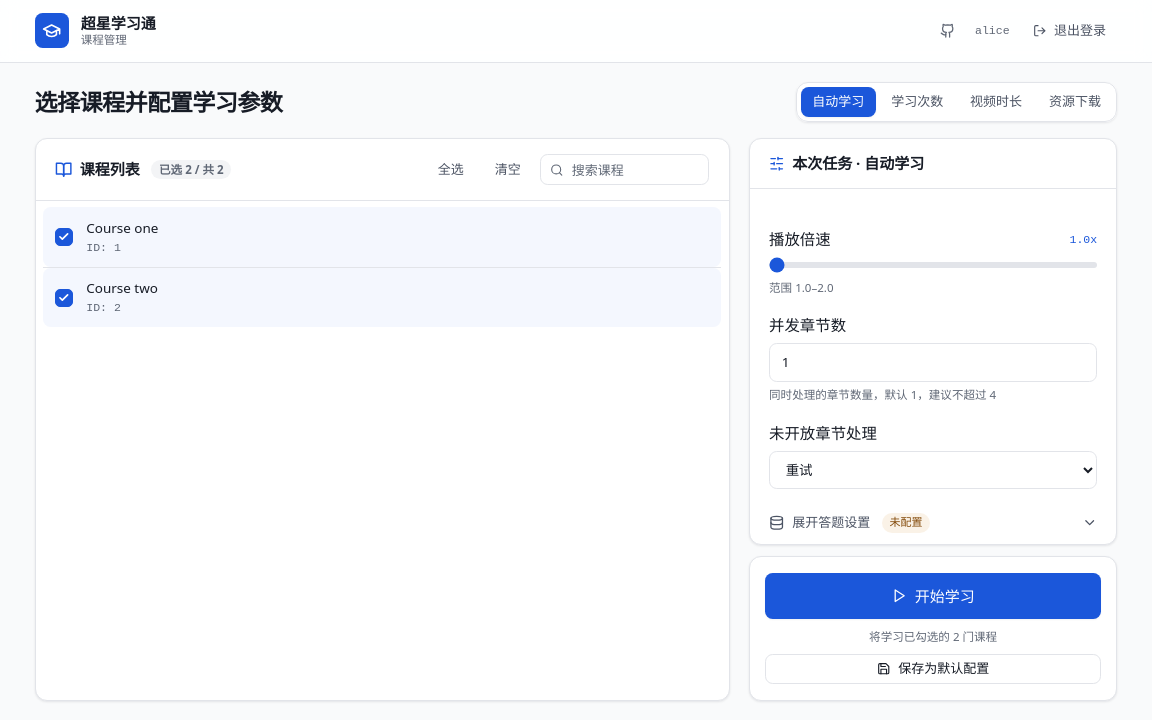
Test: task navigation › ignores a late success stop response after a new task starts for the same account
This screenshot has width=1152, height=720.
What coordinates should you click on to do the following:
click the button "开始学习"
I would click on:
 (933, 596)
Its box is x1=765 y1=573 x2=1101 y2=619.
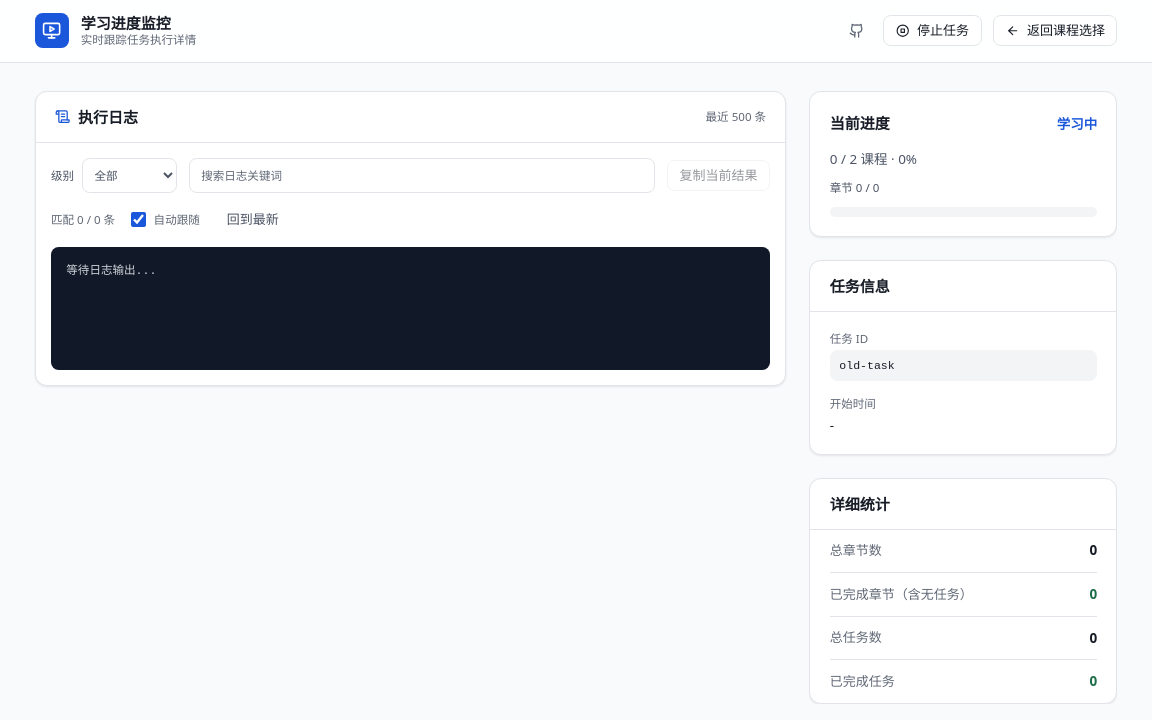
What coordinates should you click on to do the following:
click the button "停止任务"
I would click on:
 (933, 31)
Its box is x1=883 y1=15 x2=982 y2=46.
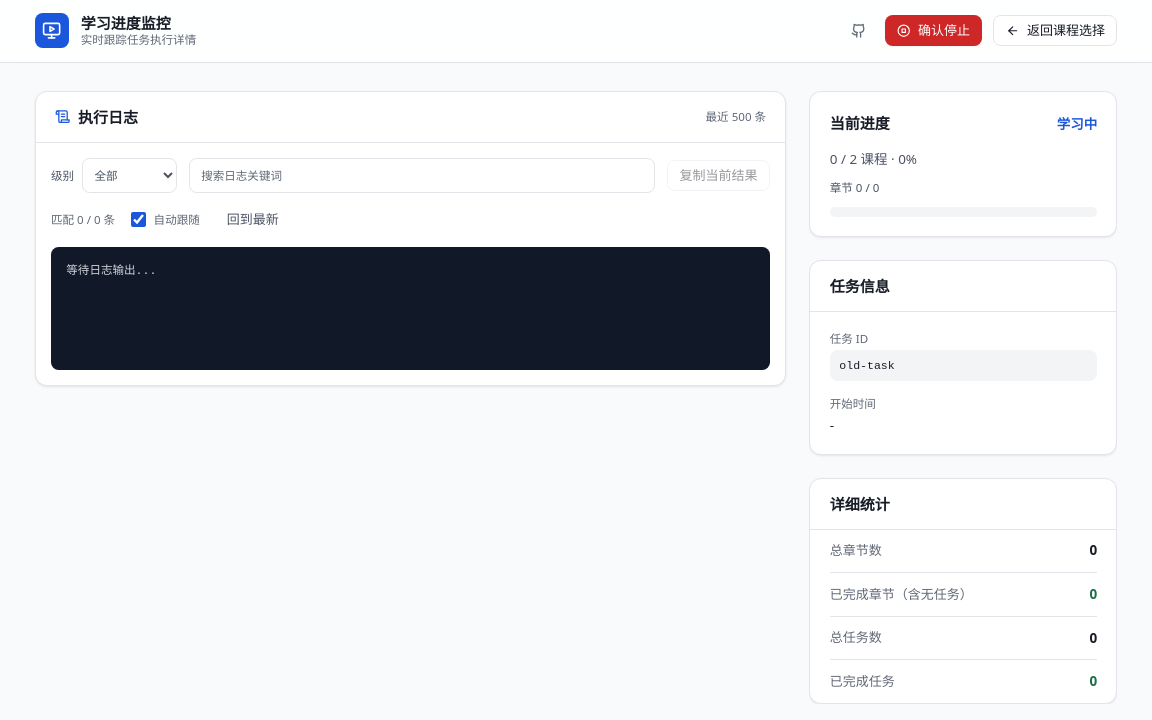
What coordinates should you click on to do the following:
click the button with aria-label "确认停止任务"
I would click on:
 (934, 31)
Its box is x1=885 y1=15 x2=982 y2=46.
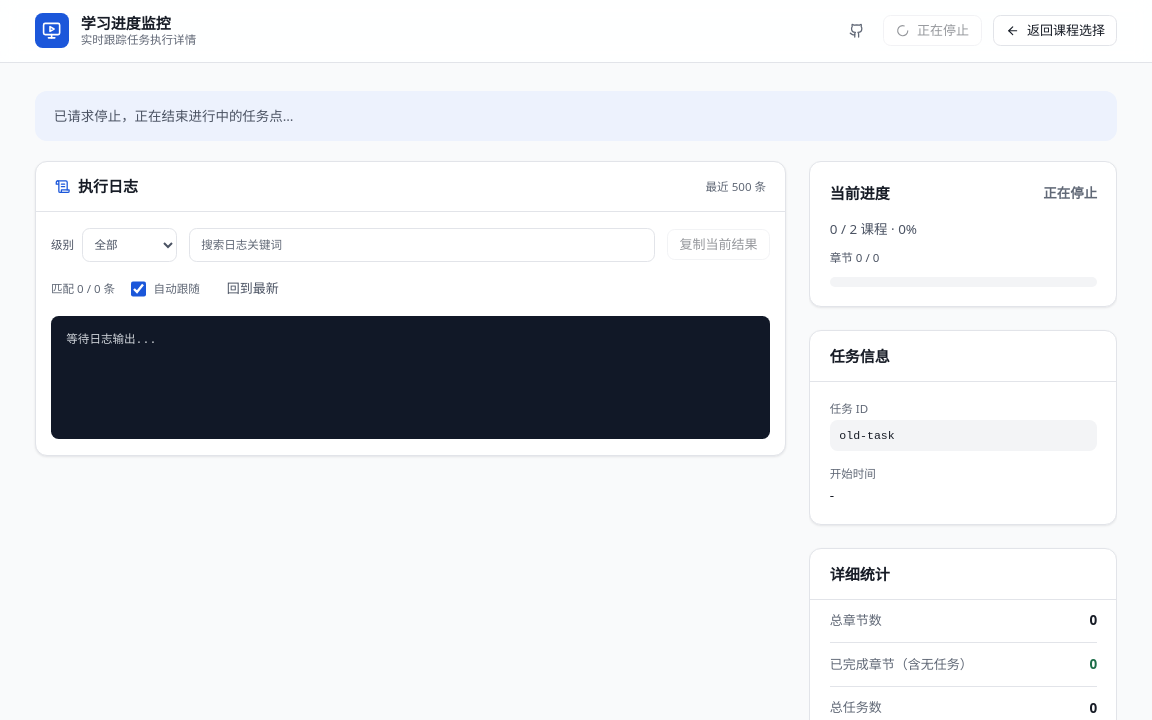
What coordinates should you click on to do the following:
click the button "返回课程选择"
I would click on:
 (1055, 31)
Its box is x1=993 y1=15 x2=1118 y2=46.
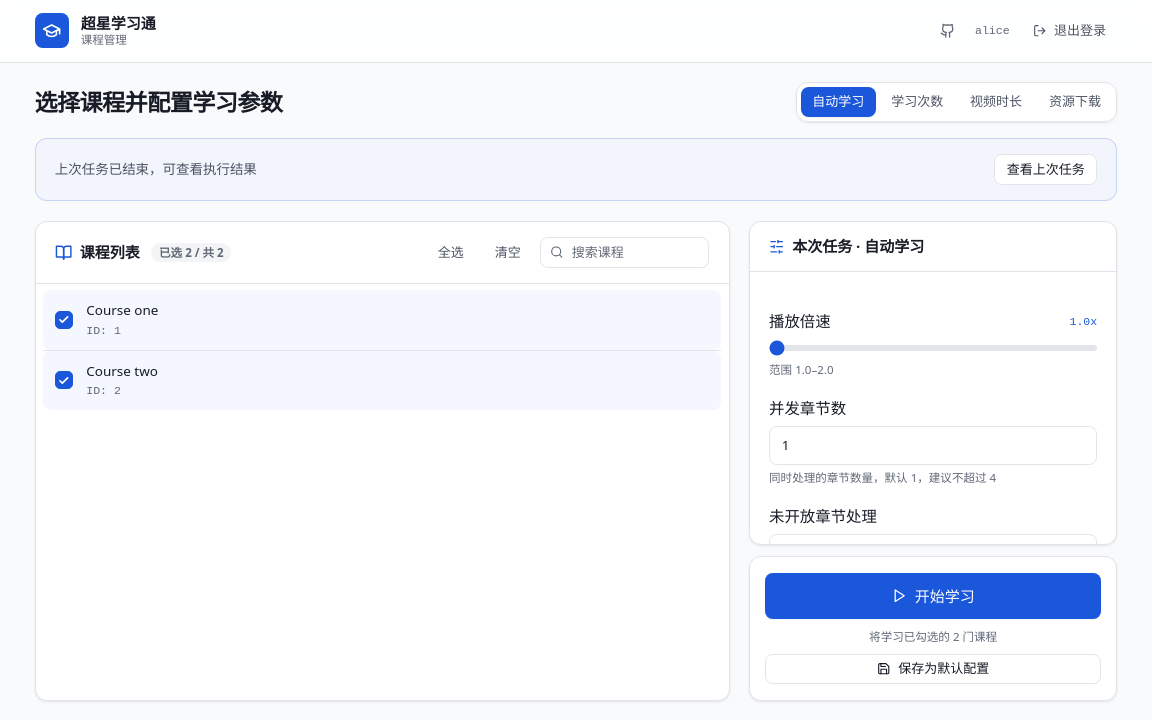
Now the button "查看上次任务" is shown, box x1=994 y1=154 x2=1097 y2=185
What coordinates should you click on to do the following:
click the button "开始学习"
I would click on:
 (933, 596)
Its box is x1=765 y1=573 x2=1101 y2=619.
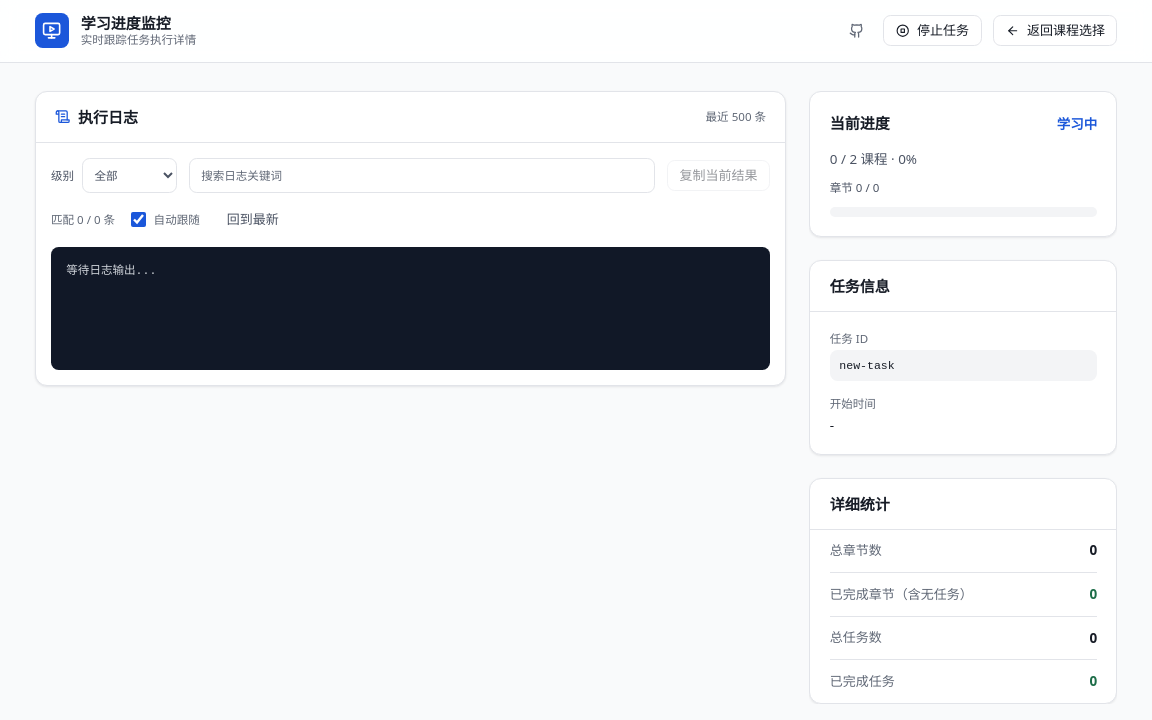
Expected: the message "已请求停止，正在结束进行中的任务点…" is not shown
Now the text "new-task" is shown, box x1=830 y1=350 x2=1097 y2=381
What coordinates should you click on to do the following:
click the button "返回课程选择"
I would click on:
 (1055, 31)
Its box is x1=993 y1=15 x2=1118 y2=46.
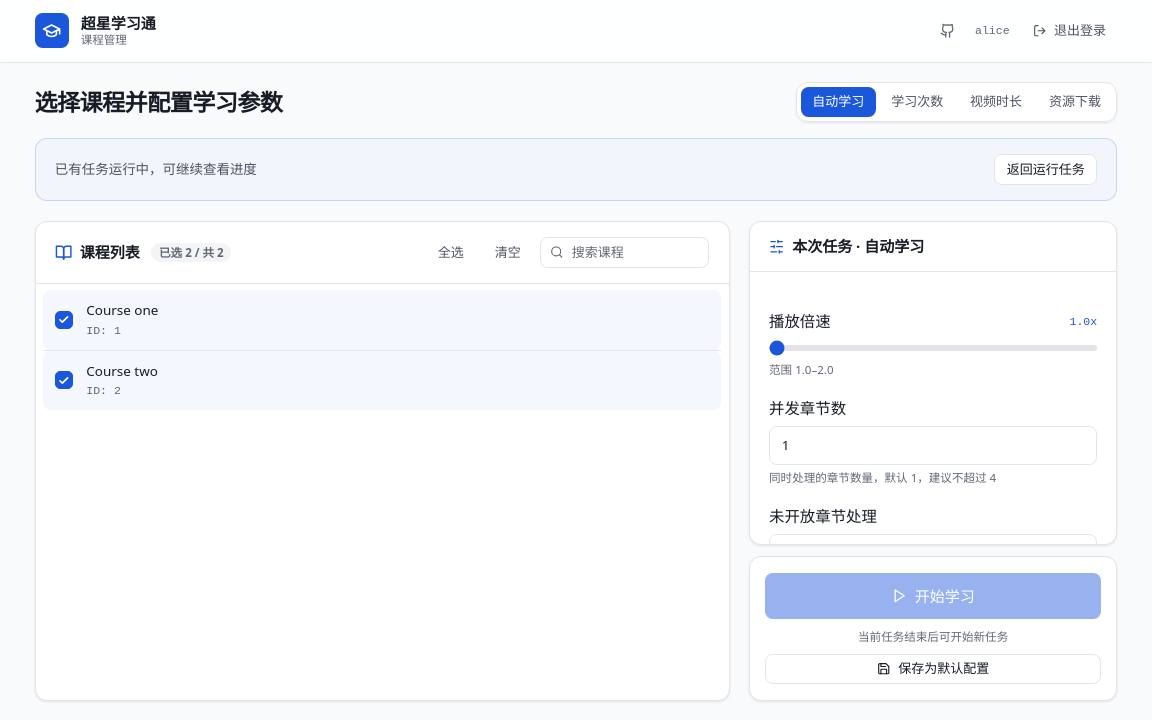
Now the button "返回运行任务" is shown, box x1=994 y1=154 x2=1097 y2=185
Now the button "开始学习" is disabled, box x1=765 y1=573 x2=1101 y2=619
